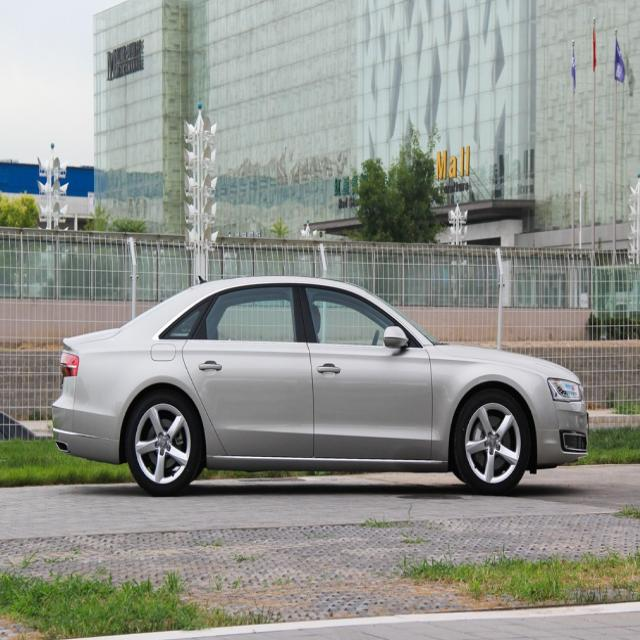back_right_side_light: (58, 350, 80, 377)
door: (180, 280, 315, 467)
front_bumper: (534, 400, 593, 468)
front_right_side_door: (297, 281, 435, 466)
front_right_side_light: (546, 372, 585, 407)
front_right_side_mirror: (380, 323, 409, 356)
wheel: (128, 389, 200, 492), (458, 388, 526, 492)
